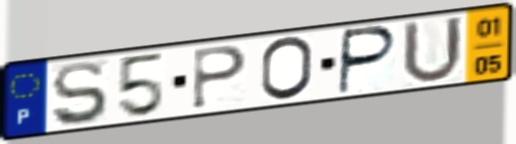5: (113, 50, 168, 119)
O: (258, 35, 316, 103)
P: (335, 23, 400, 97), (189, 44, 251, 112)
S: (49, 59, 111, 128)
U: (399, 14, 466, 86)
